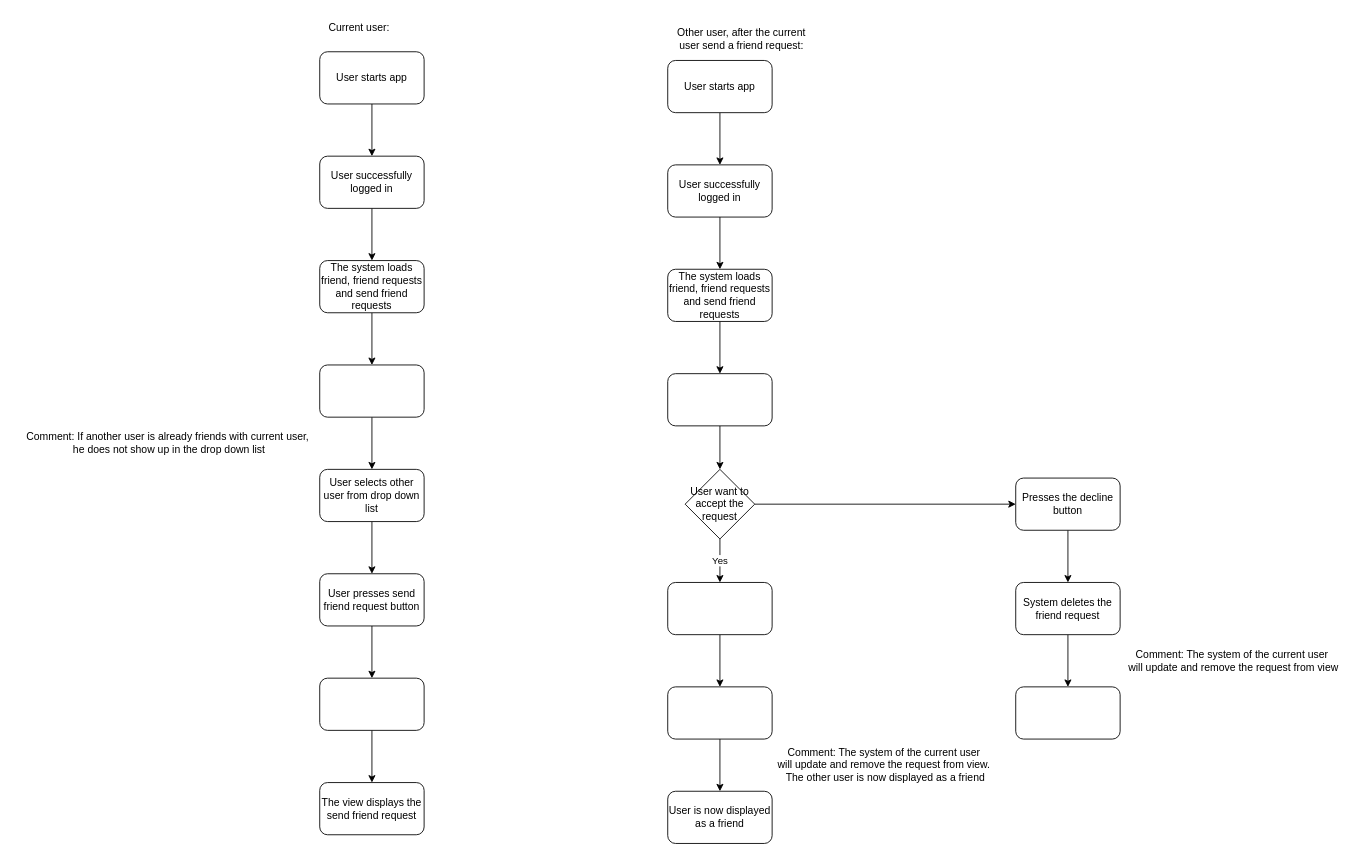
This 1361x859 diagram has some shape labels left out. Here are the shapes that lost their labels. From the top down, the centre of each, then its label:
At pixel 371 390: "User want to add another user to his friends".
At pixel 719 399: "User sees new friend request".
At pixel 719 608: "Presses the accept button".
At pixel 371 703: "The system creates a friend request of the current user to the selected user".
At pixel 719 712: "System updates the request as accepted".
At pixel 1067 712: "Friend request is now no longer displayed".
